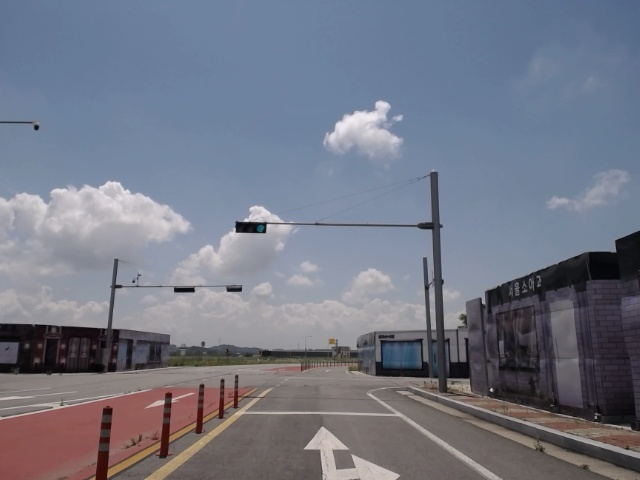green_3: (237, 223, 266, 233)
